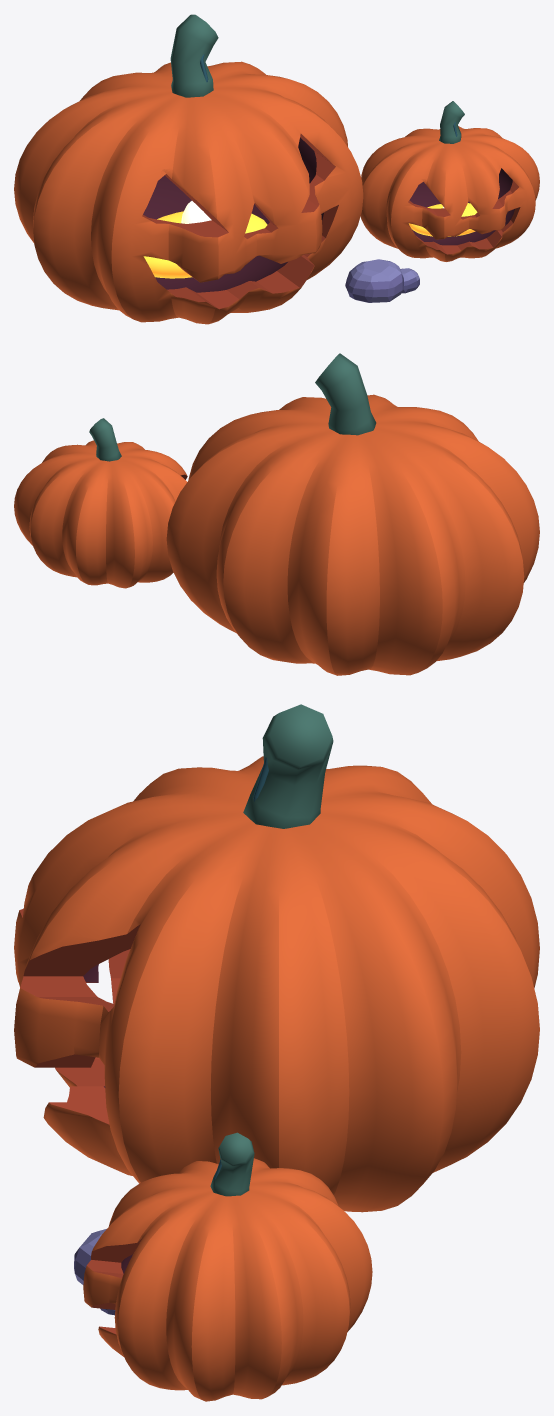
File: jack_o_lantern_pair.glb
3 renders of one model, top to bottom at view 1: azimuth 30°, elevation 25°; view 2: azimuth 150°, elevation 25°; view 3: azimuth 270°, elevation 25°, orthographic. The views are drawn at different scales.
Visible parts, largest first — view 1: Carved_Ribbed_Pumpkin, Carved_Ribbed_Pumpkin.001, Twisted_Teal_Stem, Pair_Pebble, Amber_Inner_Candle_Bed, Twisted_Teal_Stem.001, Amber_Candle_Core, Amber_Inner_Candle_Bed.001; view 2: Carved_Ribbed_Pumpkin, Carved_Ribbed_Pumpkin.001, Twisted_Teal_Stem, Twisted_Teal_Stem.001; view 3: Carved_Ribbed_Pumpkin, Carved_Ribbed_Pumpkin.001, Twisted_Teal_Stem, Twisted_Teal_Stem.001.
Part boxes in pixels (<box>): Carved_Ribbed_Pumpkin: <box>14,61,363,324</box>; Carved_Ribbed_Pumpkin.001: <box>360,126,539,261</box>; Twisted_Teal_Stem: <box>170,14,218,97</box>; Pair_Pebble: <box>345,259,403,302</box>; Amber_Inner_Candle_Bed: <box>143,211,267,278</box>; Twisted_Teal_Stem.001: <box>439,101,464,143</box>; Amber_Candle_Core: <box>181,201,211,223</box>; Amber_Inner_Candle_Bed.001: <box>408,203,477,236</box>; Carved_Ribbed_Pumpkin: <box>166,394,539,675</box>; Carved_Ribbed_Pumpkin.001: <box>14,440,187,588</box>; Twisted_Teal_Stem: <box>315,353,376,435</box>; Twisted_Teal_Stem.001: <box>89,418,121,461</box>; Carved_Ribbed_Pumpkin: <box>14,756,539,1212</box>; Carved_Ribbed_Pumpkin.001: <box>83,1158,372,1401</box>; Twisted_Teal_Stem: <box>243,704,333,828</box>; Twisted_Teal_Stem.001: <box>210,1132,254,1196</box>.
Size of the model in its own units: 1.92 by 1.04 by 1.05.
